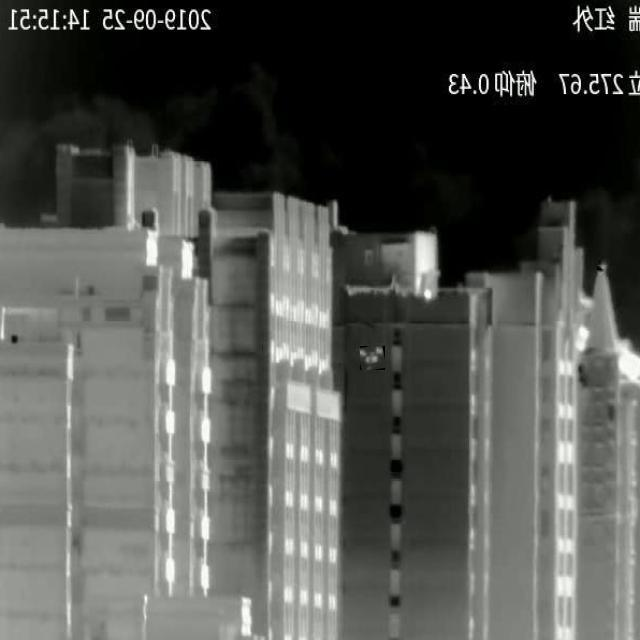drone: (360, 346, 383, 370)
